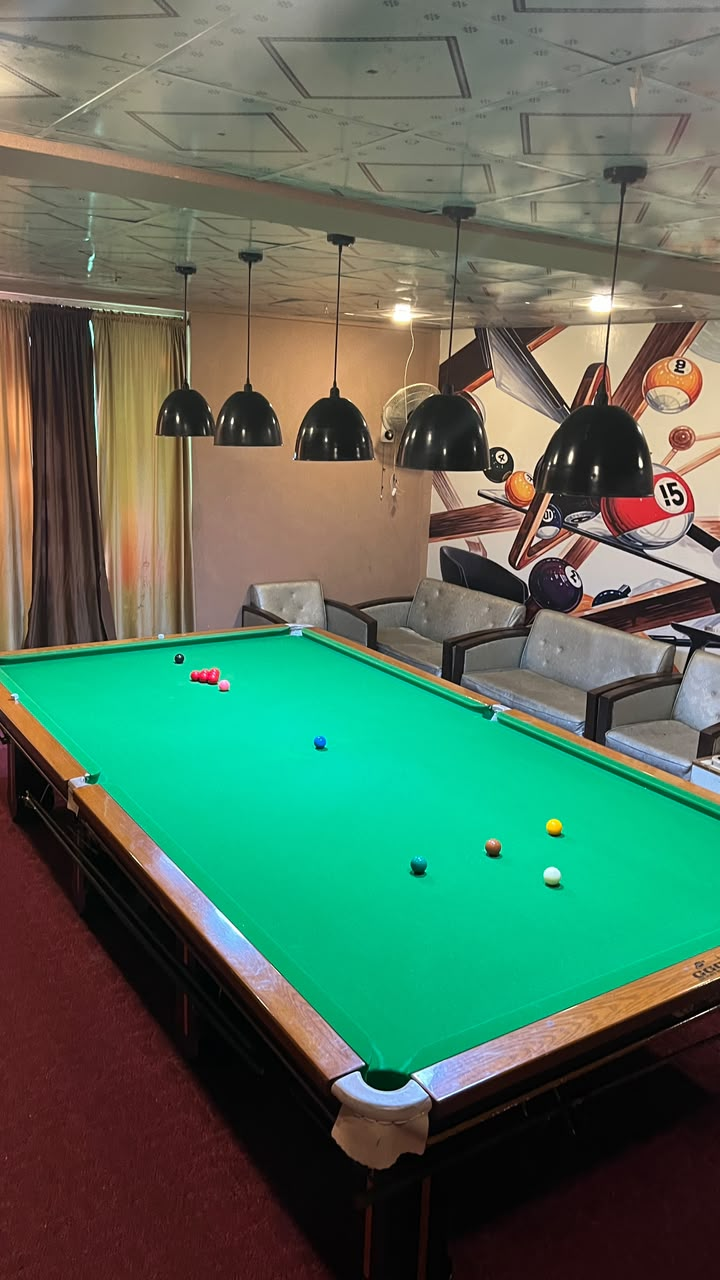Snooker: (186, 666, 225, 686)
